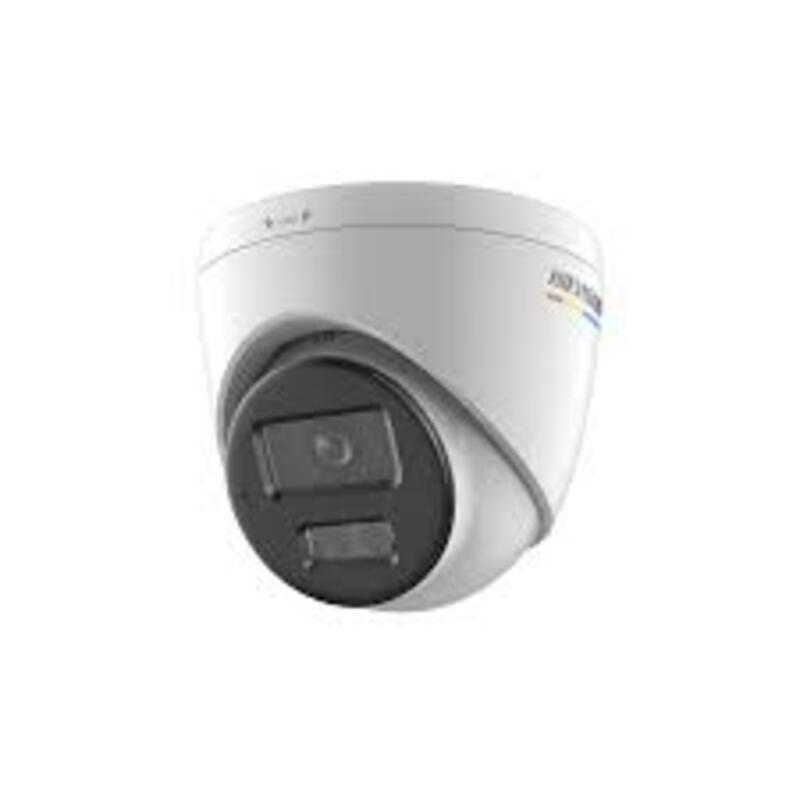turret: (181, 173, 616, 632)
